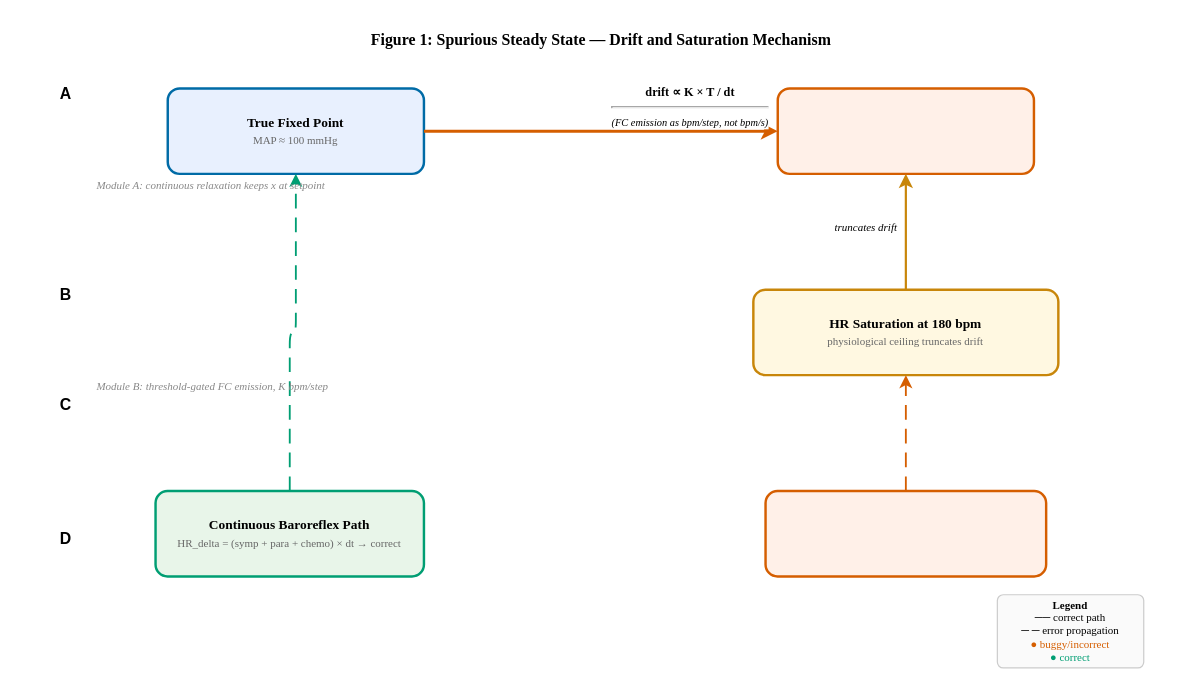
Image size: 1200x689. Some labels were removed from this diagram. Each missing label, with the centre of its shape:
"Discrete FC Path (buggy) net_HR_add = K bpm/step → K × T/dt total injection" goes at point 905,533.
"Spurious Fixed Point MAP ≈ 144.7 mmHg" goes at point 905,130.
